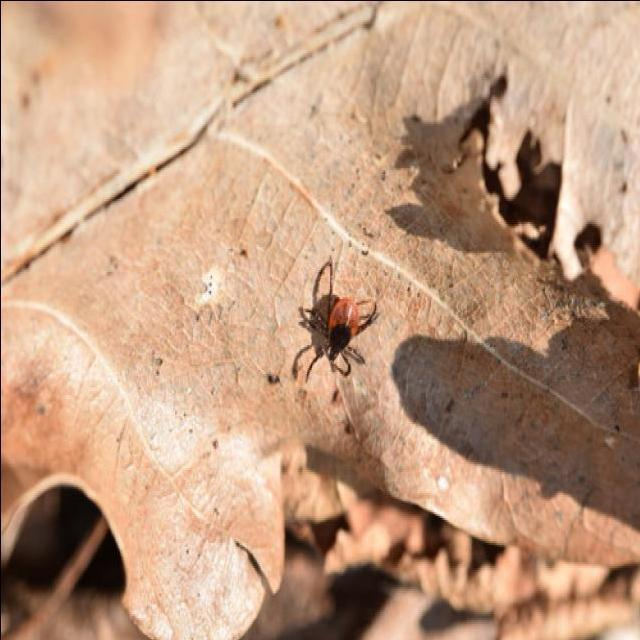Ixodes Ricinus-F: (298, 263, 379, 379)
